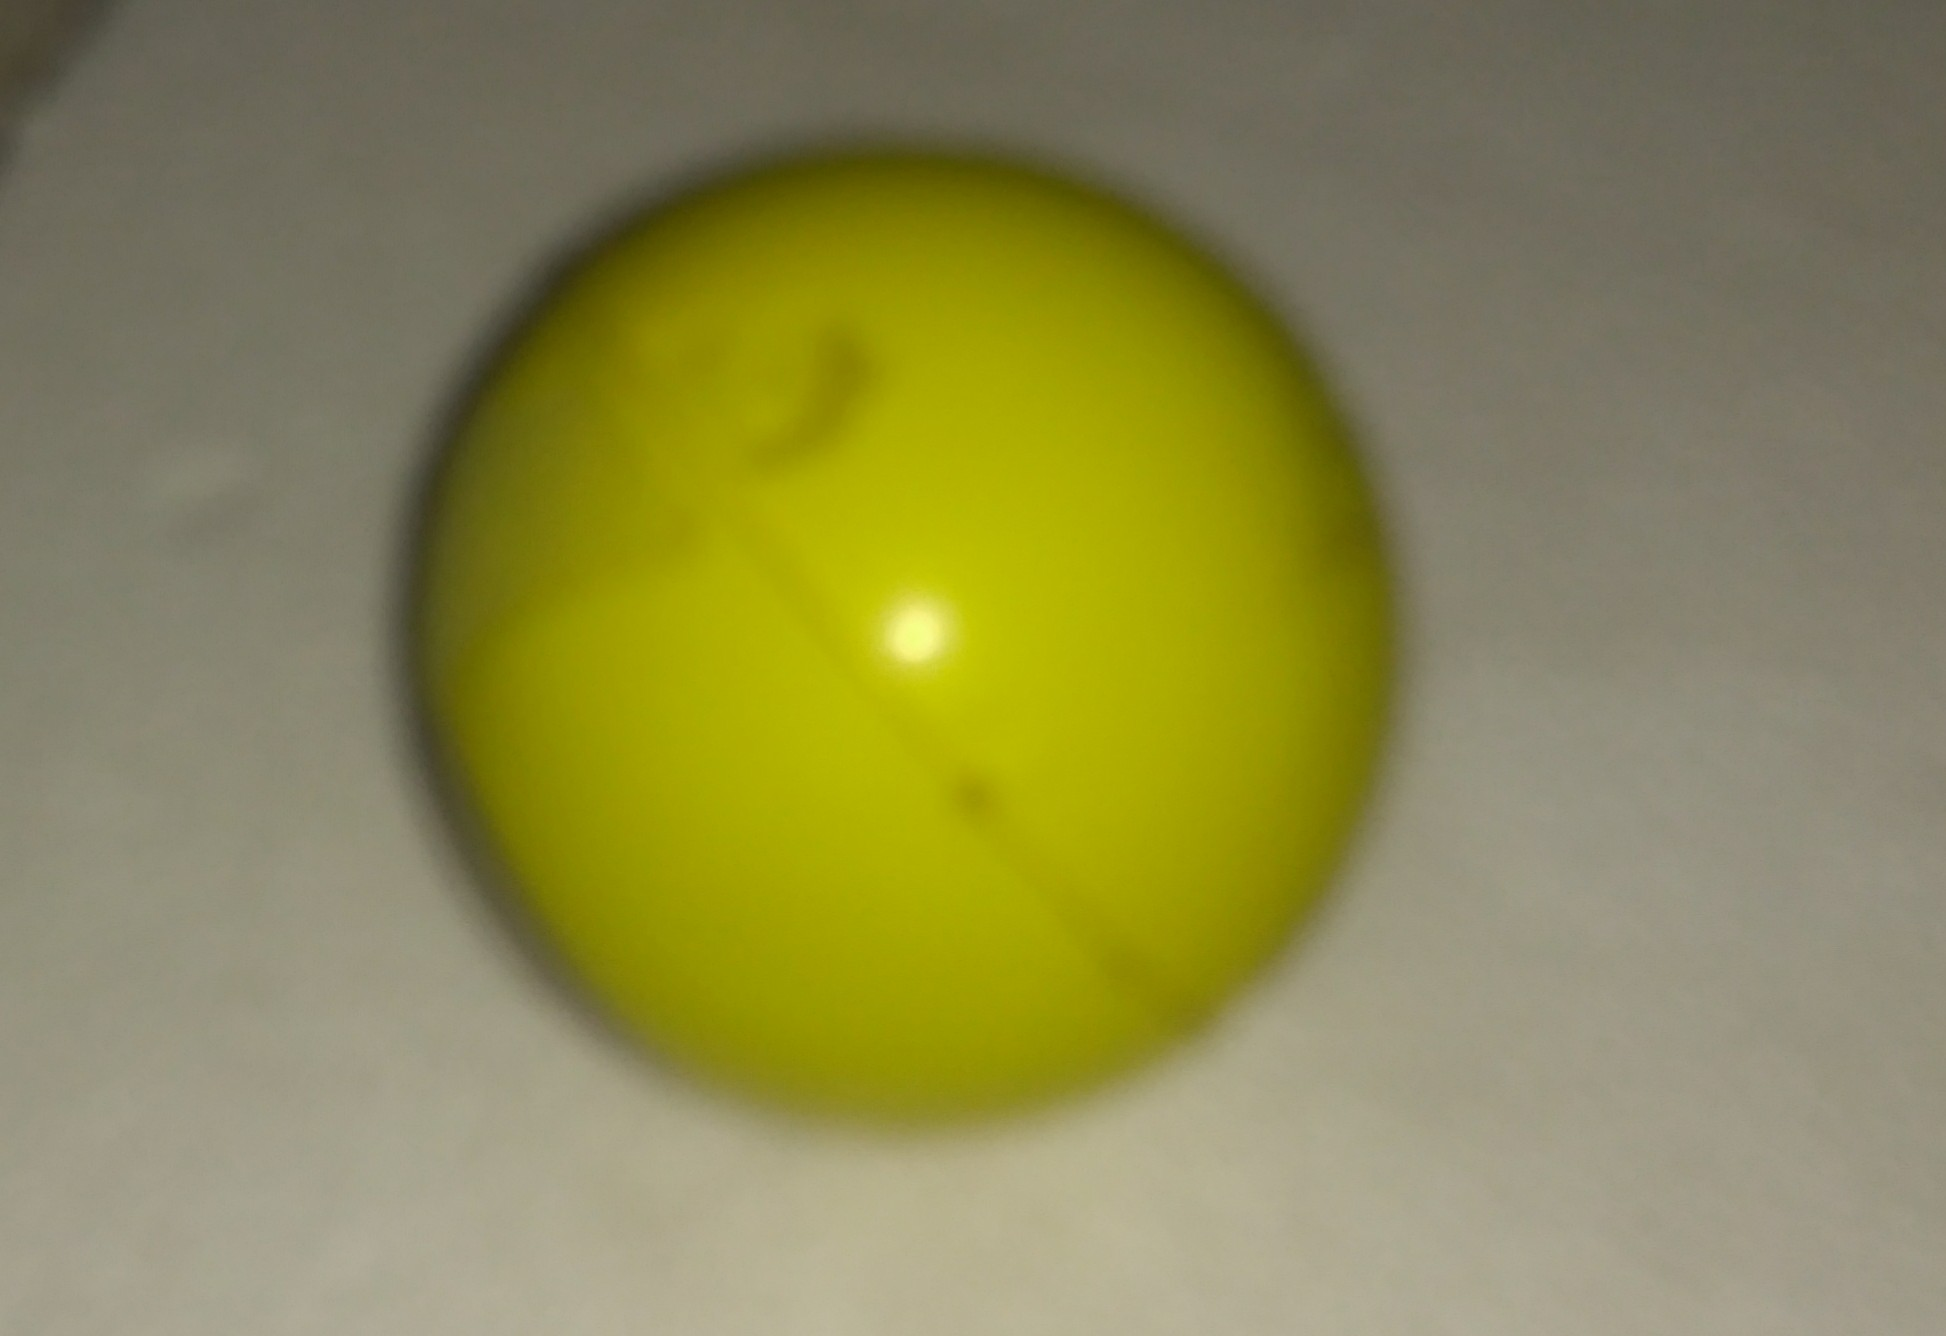ball: (411, 149, 1391, 1141)
